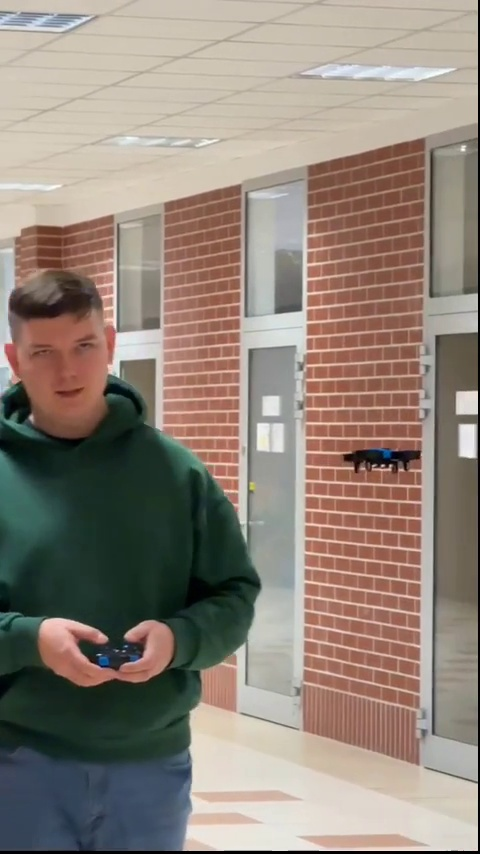drone: (338, 447, 419, 480)
no vest: (0, 268, 254, 850)
